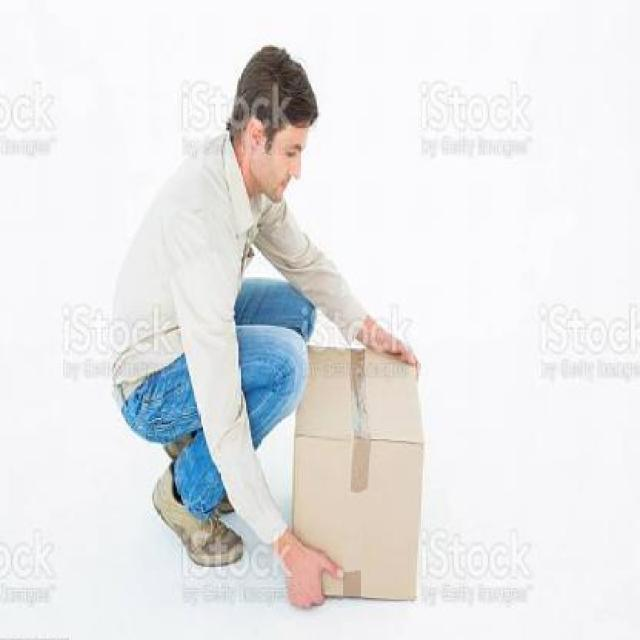box: (290, 324, 428, 634)
